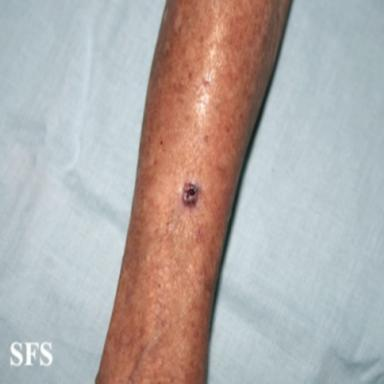basal-cell-carcinoma: (181, 180, 201, 208)
